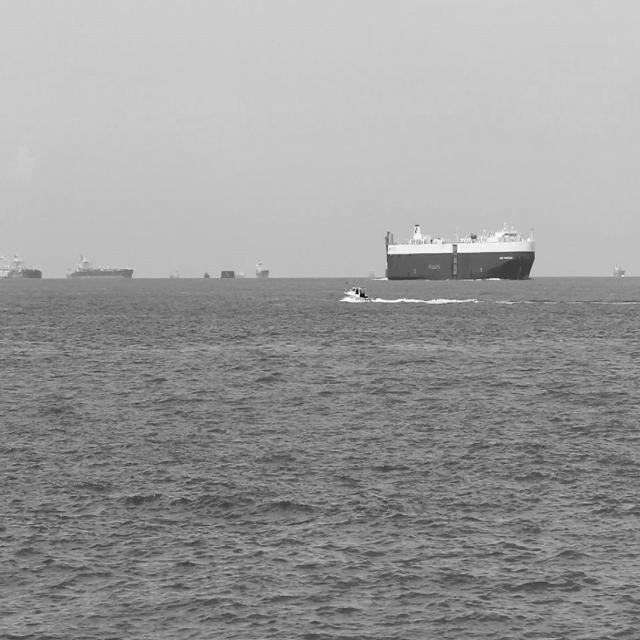ship: (382, 219, 538, 284), (61, 249, 136, 281), (0, 254, 47, 283), (341, 279, 374, 307), (252, 258, 272, 284), (610, 258, 626, 284)
